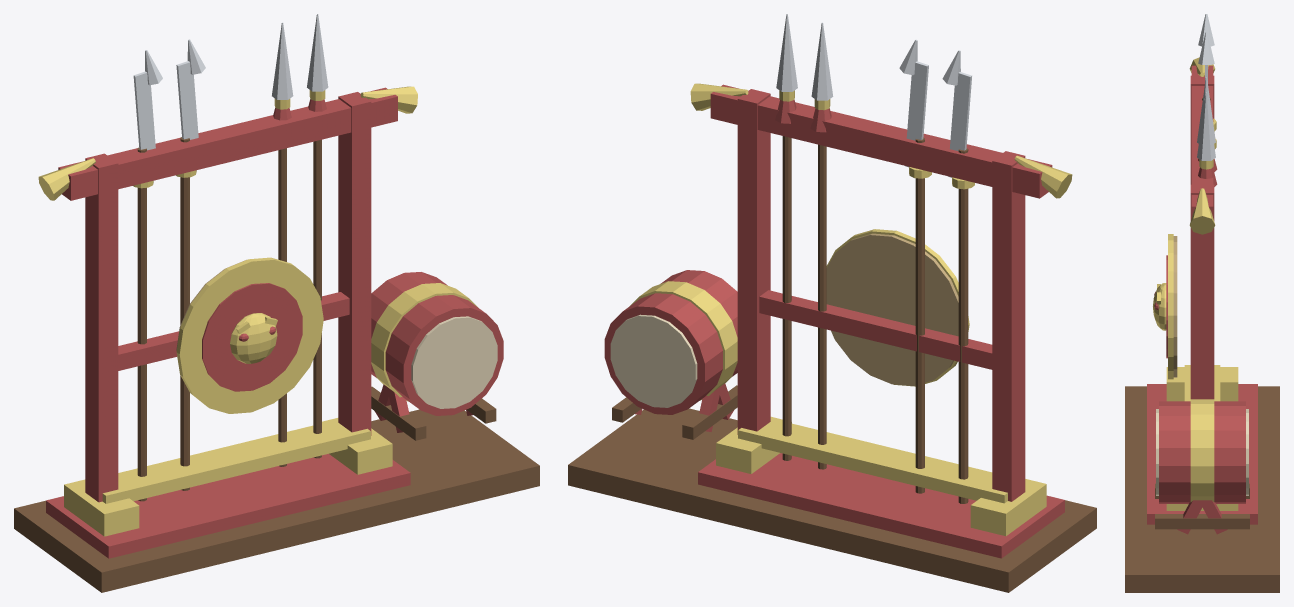
Rendered from vu_khi_nha_ly.glb.
3 renders of one model, left to right at view 1: azimuth 30°, elevation 25°; view 2: azimuth 150°, elevation 25°; view 3: azimuth 270°, elevation 25°, orthographic. The views are drawn at different scales.
Parts seen in each view (by area): view 1: Vu_Khi_Nha_Ly; view 2: Vu_Khi_Nha_Ly; view 3: Vu_Khi_Nha_Ly.
Part boxes in pixels (x1,y1,x2,y2): Vu_Khi_Nha_Ly: (14,14,539,592); Vu_Khi_Nha_Ly: (568,14,1096,592); Vu_Khi_Nha_Ly: (1125,14,1279,592).
Size of the model in its own units: 2.33 by 2.39 by 0.78.
